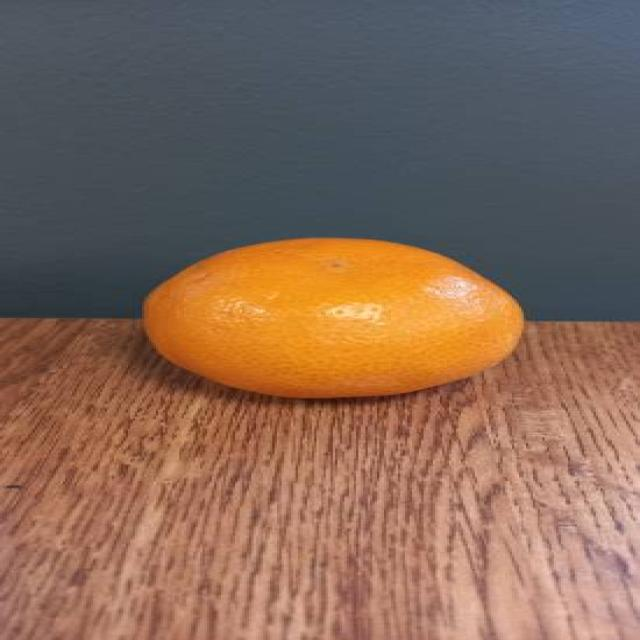Good_Orange: (142, 238, 526, 402)
